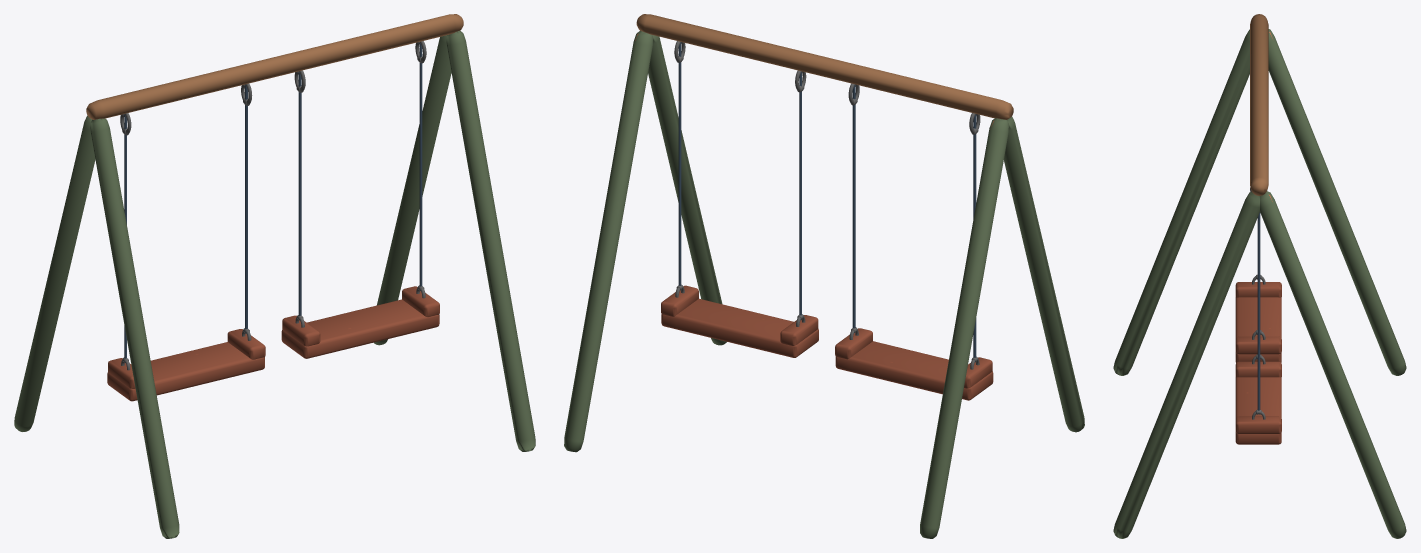
Rendered from Swing.fbx.
The picture shows the model from 3 angles, left to right: view 1: azimuth 30°, elevation 25°; view 2: azimuth 150°, elevation 25°; view 3: azimuth 270°, elevation 25°; orthographic projection. The views are drawn at different scales.
Visible parts, largest first — view 1: Side.010; view 2: Side.010; view 3: Side.010.
Boxes of the visible parts, x1,y1,x2,y2 form: Side.010: (14, 14, 535, 538); Side.010: (564, 14, 1084, 538); Side.010: (1113, 14, 1406, 538).
Size of the model in its own units: 304 by 299 by 221.
